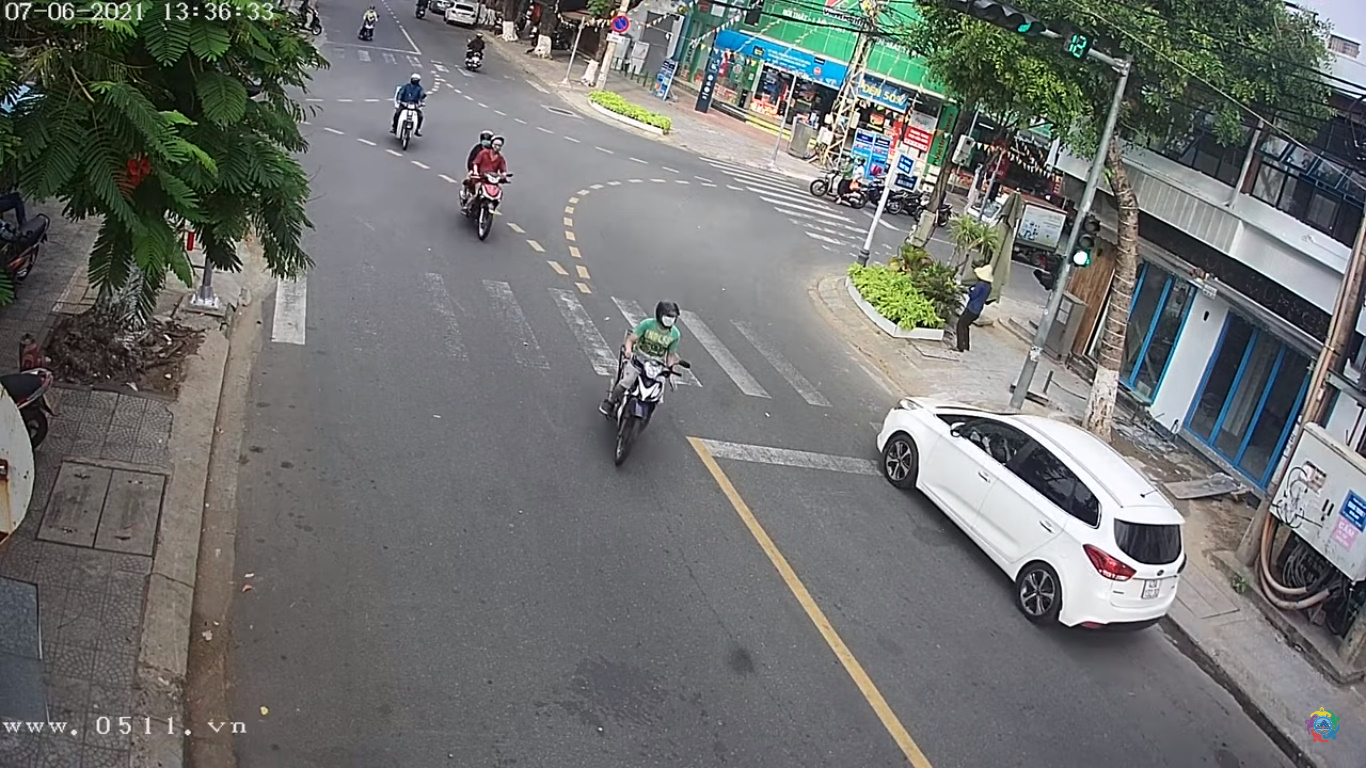car: (874, 384, 1192, 656)
